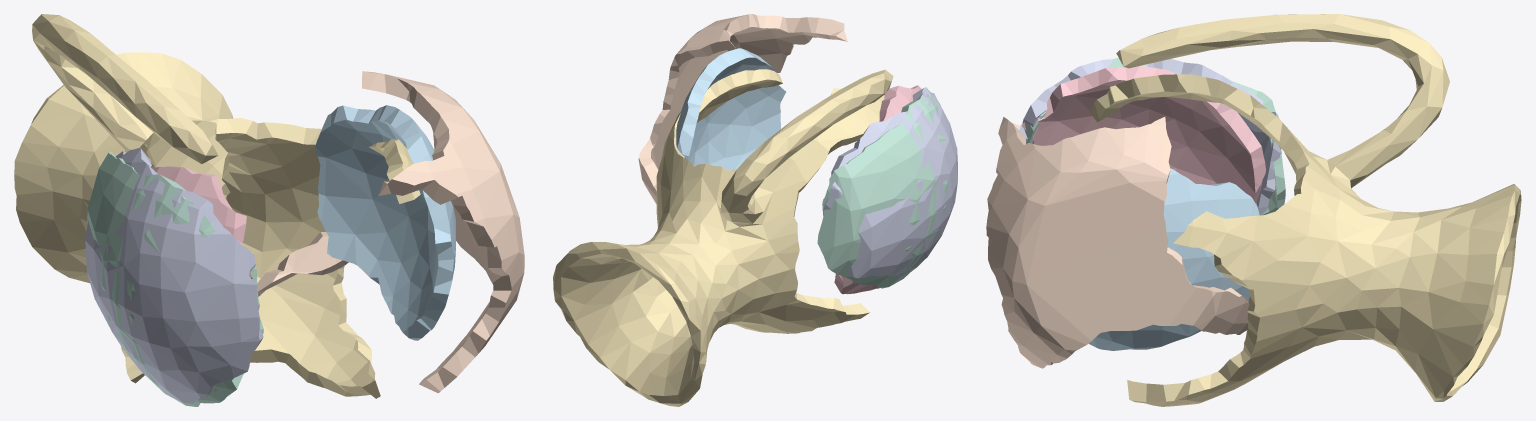
Rendered from view_input_colored.glb.
3 views of the same model, side by side, from view 1: azimuth 30°, elevation 25°; view 2: azimuth 150°, elevation 25°; view 3: azimuth 270°, elevation 25° (orthographic). The views are drawn at different scales.
Parts seen in each view (by area): view 1: world; view 2: world; view 3: world.
Part boxes in pixels (x1,y1,x2,y2): world: [14, 14, 524, 406]; world: [553, 14, 957, 406]; world: [986, 14, 1521, 406].
Bounding box in the file's own units: 0.7244 × 0.6781 × 1.05.
